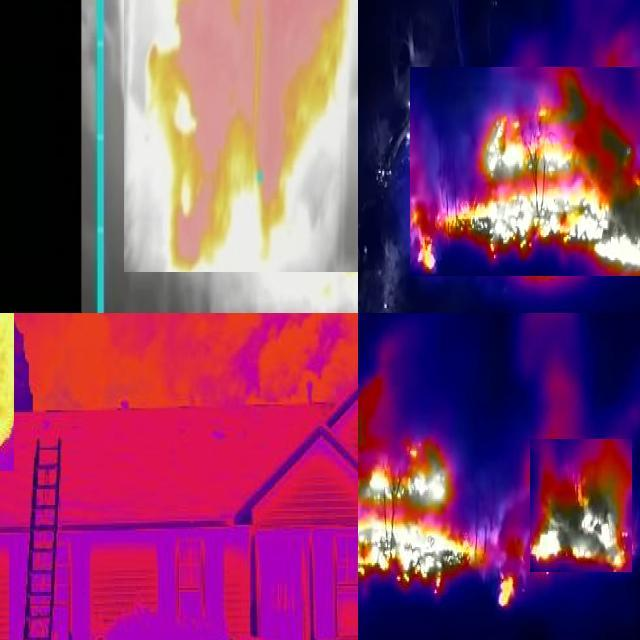fire: (124, 1, 359, 272), (410, 67, 640, 276), (359, 408, 517, 612), (530, 439, 632, 572)
